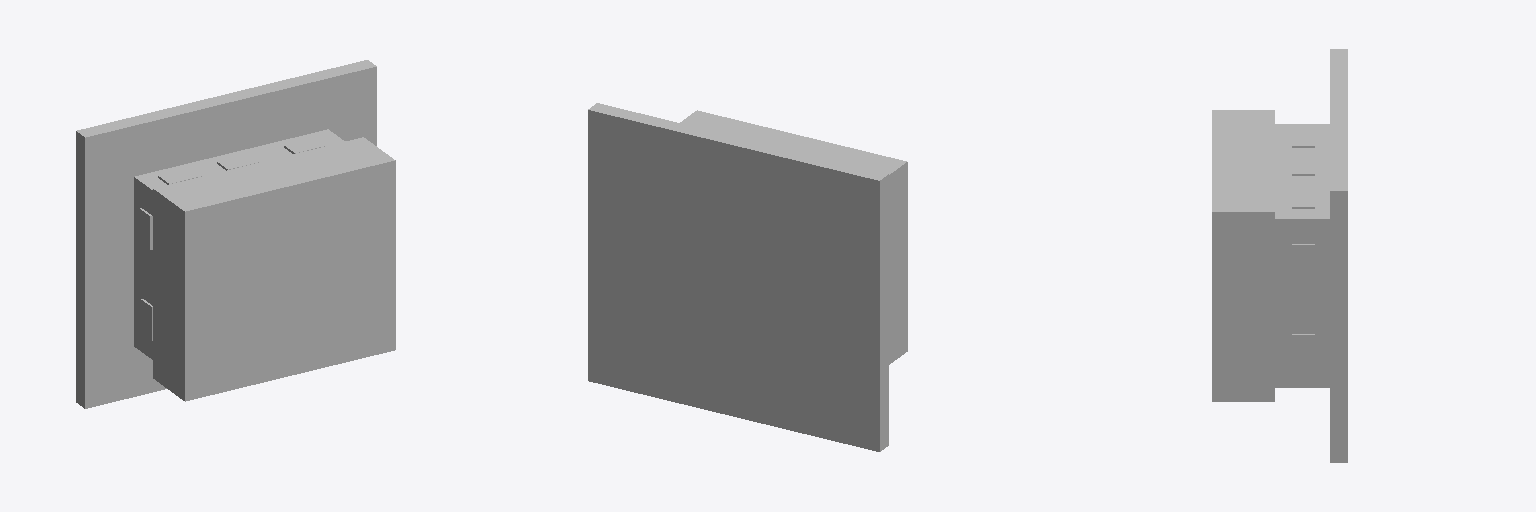
3 views of the same model, side by side, from view 1: azimuth 30°, elevation 25°; view 2: azimuth 150°, elevation 25°; view 3: azimuth 270°, elevation 25° (orthographic).
Parts seen in each view (by area): view 1: 0KMpiAlnb52RgQuM1CwVfd, 07Enbsqm9C7AQC9iyBwfSD, 2IxUUNUVPB6Ob$eicCfP2N, 1bzfVsJqn8De5PukCrqylz, 3rPX_Juz59peXXY6wDJl18, 0OKCG9uG53i9K16_x3YNfz; view 2: 0KMpiAlnb52RgQuM1CwVfd, 07Enbsqm9C7AQC9iyBwfSD, 2IxUUNUVPB6Ob$eicCfP2N; view 3: 07Enbsqm9C7AQC9iyBwfSD, 0KMpiAlnb52RgQuM1CwVfd, 25fsbPyk15VvuXI$yNKenK, 2CxE0$jXr8iOH1VC2gLCXX, 1bzfVsJqn8De5PukCrqylz, 2IxUUNUVPB6Ob$eicCfP2N, 2in0QvfYXEawl1f3MP1bq2, 2OW0PH61vS77xxyX1o74u8, 2cFXkmvNz6q8TXoCpAWu5Y, 3VCarUKgH1buLo22Ozxe6J.
Part boxes in pixels (bbox=[...]): 0KMpiAlnb52RgQuM1CwVfd: bbox=[76, 60, 376, 408]; 07Enbsqm9C7AQC9iyBwfSD: bbox=[153, 137, 395, 307]; 2IxUUNUVPB6Ob$eicCfP2N: bbox=[153, 254, 395, 401]; 1bzfVsJqn8De5PukCrqylz: bbox=[134, 129, 344, 189]; 3rPX_Juz59peXXY6wDJl18: bbox=[134, 177, 152, 359]; 0OKCG9uG53i9K16_x3YNfz: bbox=[153, 191, 183, 290]; 0KMpiAlnb52RgQuM1CwVfd: bbox=[588, 103, 888, 451]; 07Enbsqm9C7AQC9iyBwfSD: bbox=[680, 110, 907, 267]; 2IxUUNUVPB6Ob$eicCfP2N: bbox=[889, 255, 907, 364]; 07Enbsqm9C7AQC9iyBwfSD: bbox=[1212, 110, 1274, 308]; 0KMpiAlnb52RgQuM1CwVfd: bbox=[1330, 49, 1347, 462]; 25fsbPyk15VvuXI$yNKenK: bbox=[1279, 216, 1329, 387]; 2CxE0$jXr8iOH1VC2gLCXX: bbox=[1212, 214, 1274, 306]; 1bzfVsJqn8De5PukCrqylz: bbox=[1279, 124, 1329, 223]; 2IxUUNUVPB6Ob$eicCfP2N: bbox=[1212, 306, 1274, 401]; 2in0QvfYXEawl1f3MP1bq2: bbox=[1212, 307, 1274, 400]; 2OW0PH61vS77xxyX1o74u8: bbox=[1292, 244, 1314, 278]; 2cFXkmvNz6q8TXoCpAWu5Y: bbox=[1292, 334, 1314, 368]; 3VCarUKgH1buLo22Ozxe6J: bbox=[1275, 220, 1278, 387].
Bounding box in the file's own units: 18 × 16 × 7.32.